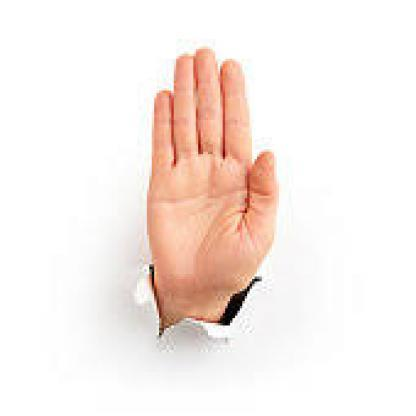stop: (143, 44, 281, 306)
